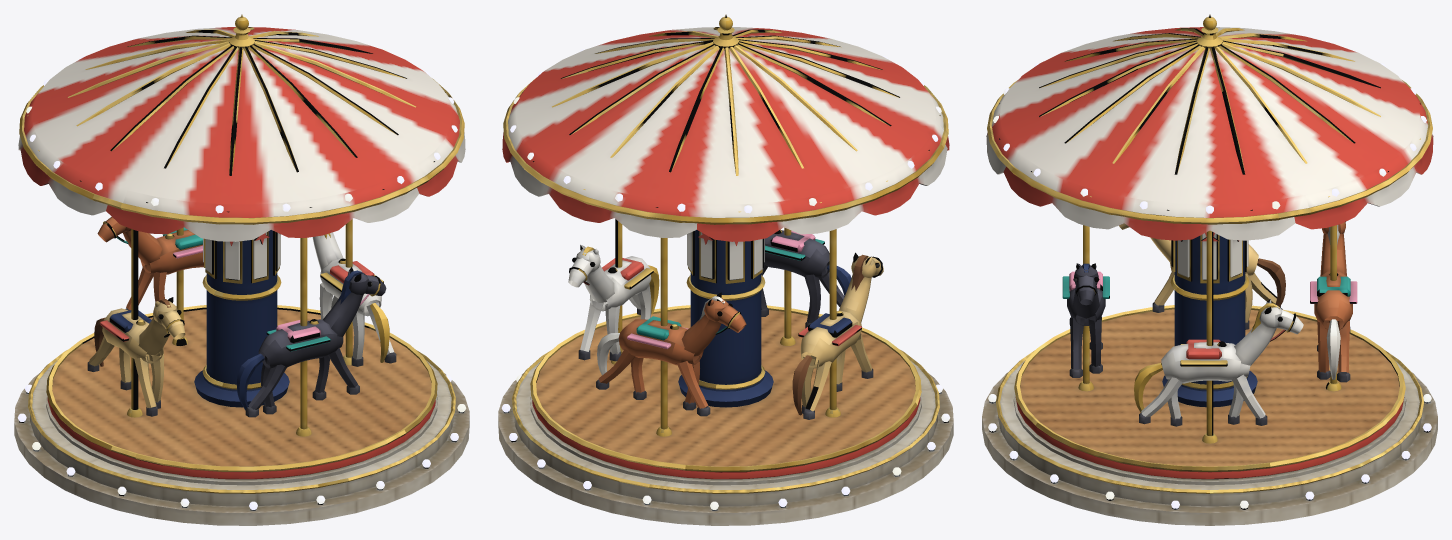
File: carousel.fbx
3 views of the same model, side by side, from view 1: azimuth 30°, elevation 25°; view 2: azimuth 150°, elevation 25°; view 3: azimuth 270°, elevation 25° (orthographic).
Parts seen in each view (by area): view 1: Anim Spin, Body; view 2: Anim Spin, Body; view 3: Anim Spin, Body.
Part boxes in pixels (bbox=[...]): Anim Spin: bbox=[18, 14, 465, 479]; Body: bbox=[14, 349, 469, 525]; Anim Spin: bbox=[502, 14, 949, 479]; Body: bbox=[498, 349, 953, 525]; Anim Spin: bbox=[986, 14, 1433, 479]; Body: bbox=[982, 350, 1437, 525].
Bounding box in the file's own units: 2.58 × 2.6 × 2.58.
